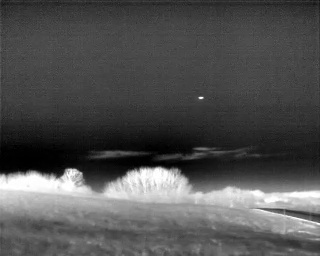AIRPLANE: (196, 94, 206, 102)
